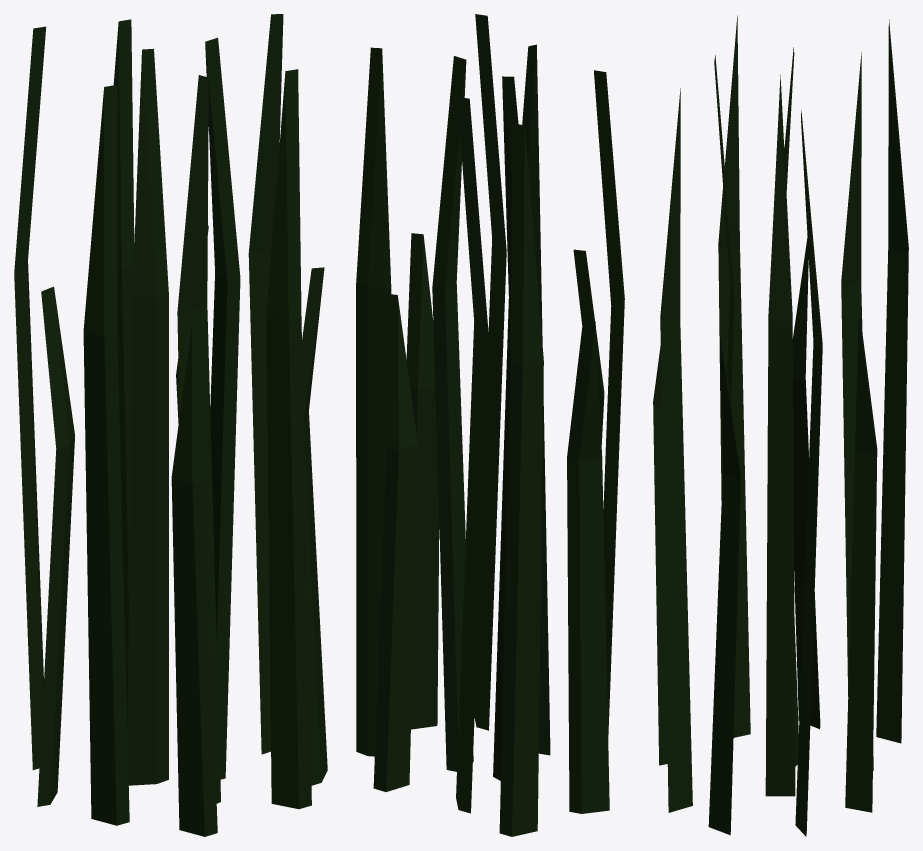
File: Grass.glb
3 views of the same model, side by side, from view 1: azimuth 30°, elevation 25°; view 2: azimuth 150°, elevation 25°; view 3: azimuth 270°, elevation 25° (orthographic). The views are drawn at different scales.
Parts seen in each view (by area): view 1: Grass_Plane.005; view 2: Grass_Plane.005; view 3: Grass_Plane.005.
Part boxes in pixels (x1=…): Grass_Plane.005: x1=14, y1=14, x2=327, y2=836; Grass_Plane.005: x1=356, y1=14, x2=624, y2=836; Grass_Plane.005: x1=653, y1=15, x2=908, y2=836.
Bounding box in the file's own units: 0.3738 × 1.01 × 0.3272.
